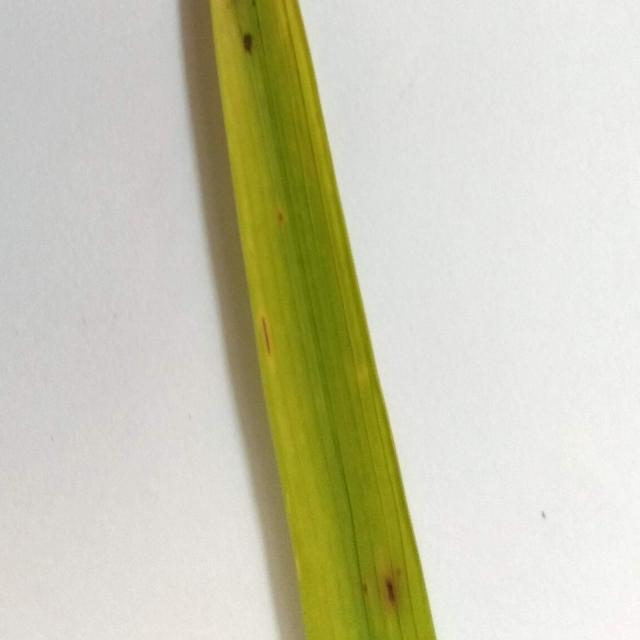Brown spot: (207, 0, 436, 640)
